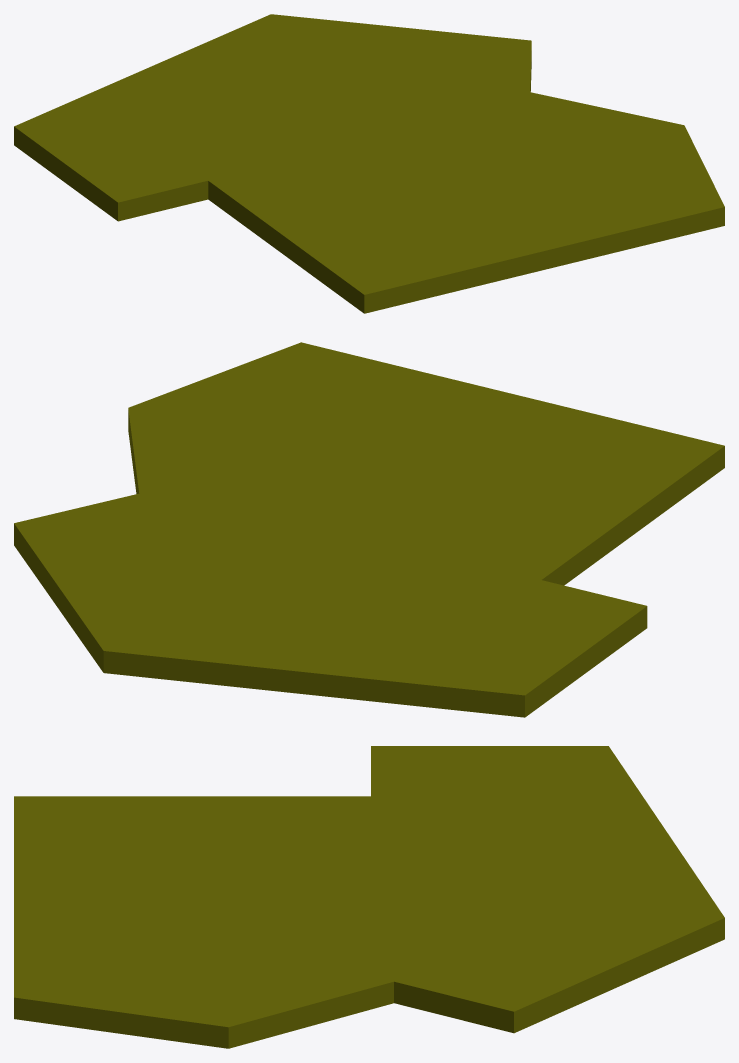
Rendered from x_0_boloto_36_1_rmstrd.fbx.
3 renders of one model, top to bottom at view 1: azimuth 30°, elevation 25°; view 2: azimuth 150°, elevation 25°; view 3: azimuth 270°, elevation 25°, orthographic. The views are drawn at different scales.
Parts seen in each view (by area): view 1: x_0_boloto_36_1_rmstrd1; view 2: x_0_boloto_36_1_rmstrd1; view 3: x_0_boloto_36_1_rmstrd1.
Part boxes in pixels (left/top/right/bottom): x_0_boloto_36_1_rmstrd1: left=14, top=14, right=724, bottom=313; x_0_boloto_36_1_rmstrd1: left=14, top=342, right=724, bottom=717; x_0_boloto_36_1_rmstrd1: left=14, top=746, right=724, bottom=1048.
Size of the model in its own units: 5.59 by 0.2 by 5.98.
